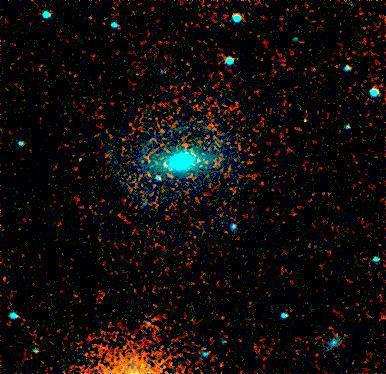star: (291, 105, 321, 135)
